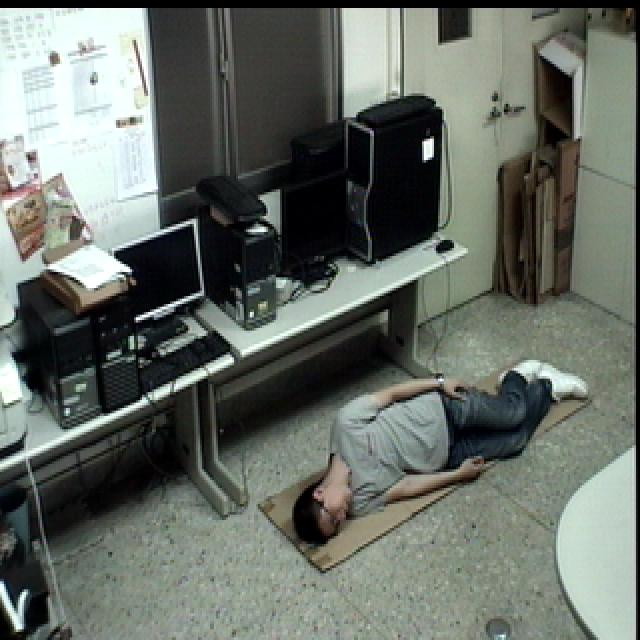lie: (290, 346, 599, 556)
